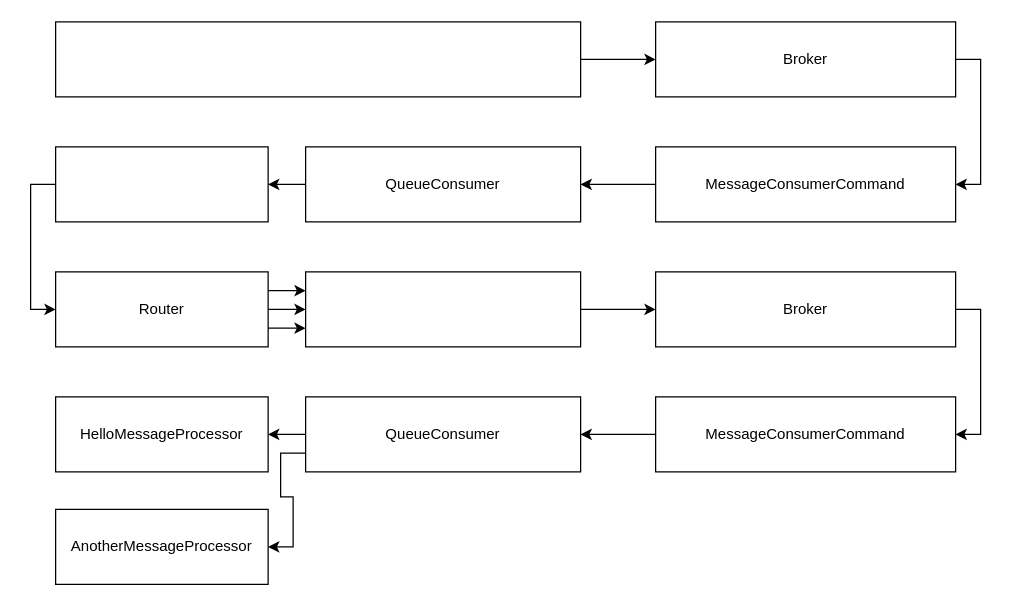
The diagram is 1013 pixels wide and 606 high, and some of its shapes have lost their labels. Here are the shapes that lost their labels. From the top down, the box of each, then its label:
(54, 21, 581, 97): MessageProducer::sendTo('hello_topic', 'Hello World');
(54, 146, 268, 222): RouterMessageProcessor
(304, 271, 581, 347): MessageProducer::send($message)
